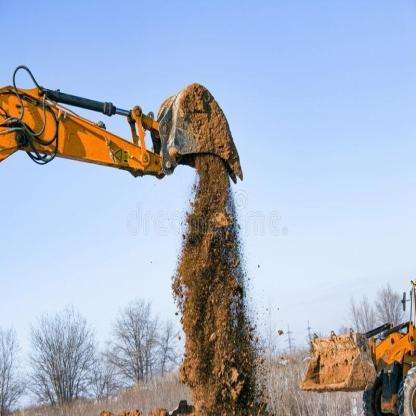excavator: (3, 56, 249, 230)
